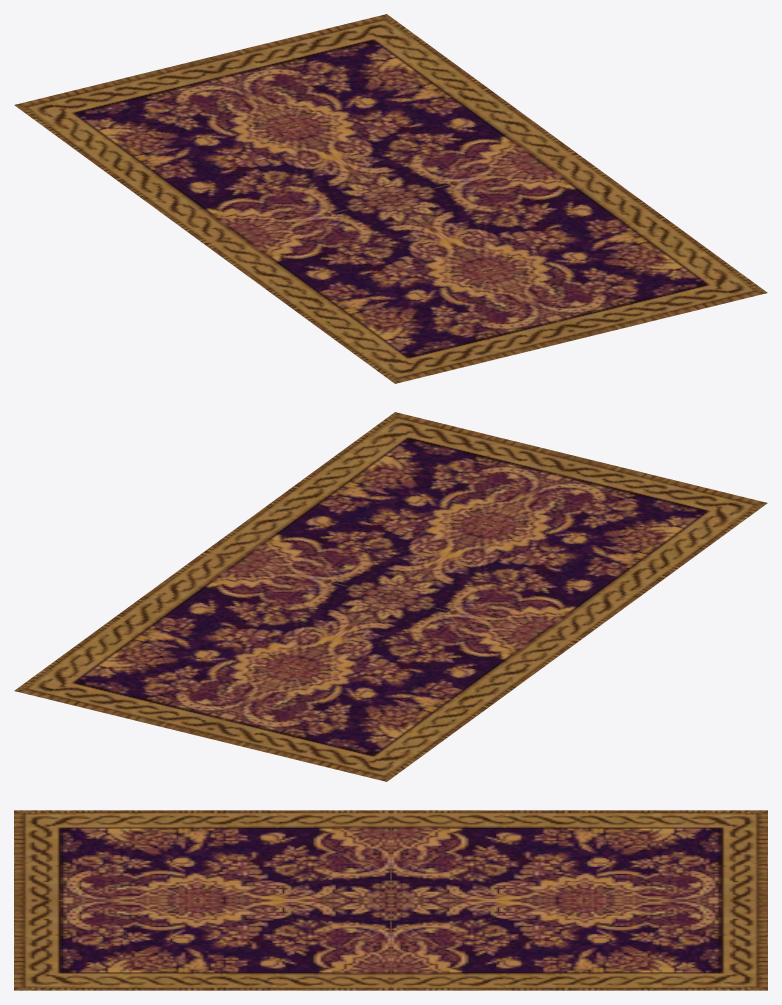
File: INST_LT_CARPET4.fbx
The picture shows the model from 3 angles, top to bottom: view 1: azimuth 30°, elevation 25°; view 2: azimuth 150°, elevation 25°; view 3: azimuth 270°, elevation 25°; orthographic projection.
Parts seen in each view (by area): view 1: INST_LT_CARPET4; view 2: INST_LT_CARPET4; view 3: INST_LT_CARPET4.
Part boxes in pixels (bbox=[...]): INST_LT_CARPET4: bbox=[14, 14, 767, 383]; INST_LT_CARPET4: bbox=[14, 412, 767, 781]; INST_LT_CARPET4: bbox=[14, 810, 767, 990].
Size of the model in its own units: 14640 by 0.00542 by 25912.
1 material, 1 textured.
